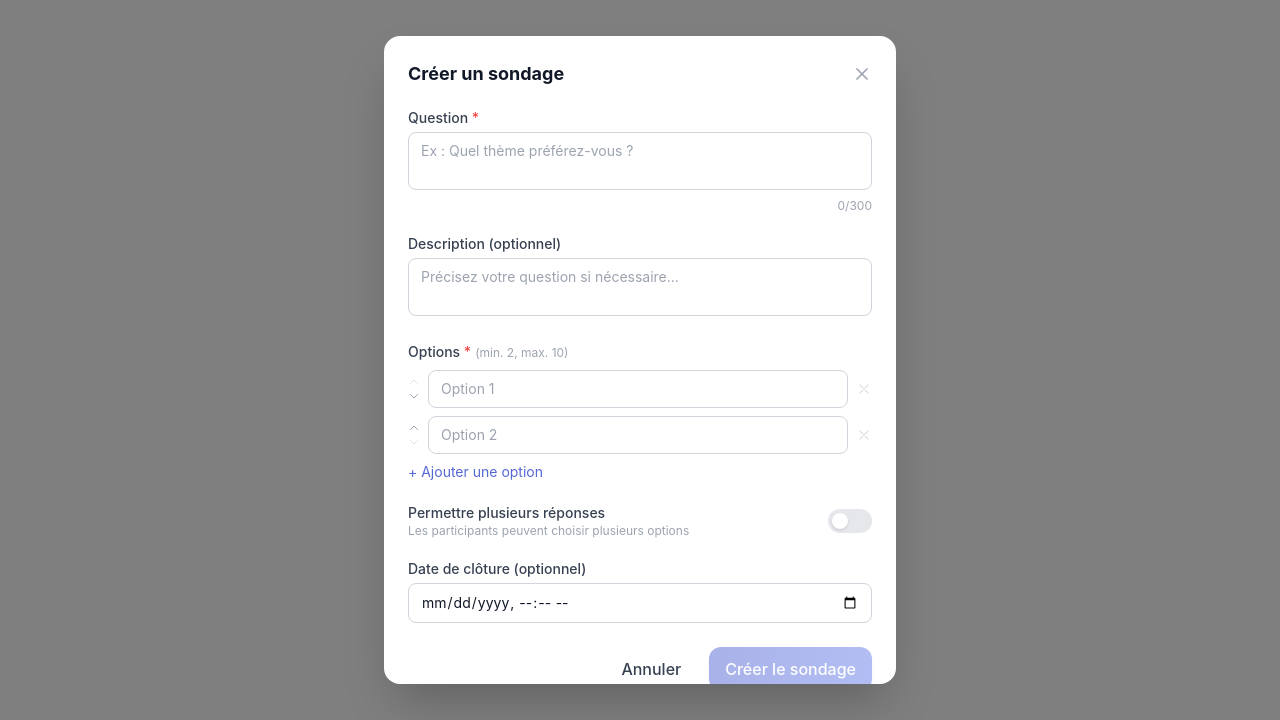
CreatePollModal › shows an error message when creation fails
In the text box labelled "Question *": point(640, 161) [408,132,872,190], type "Quel plat ?"
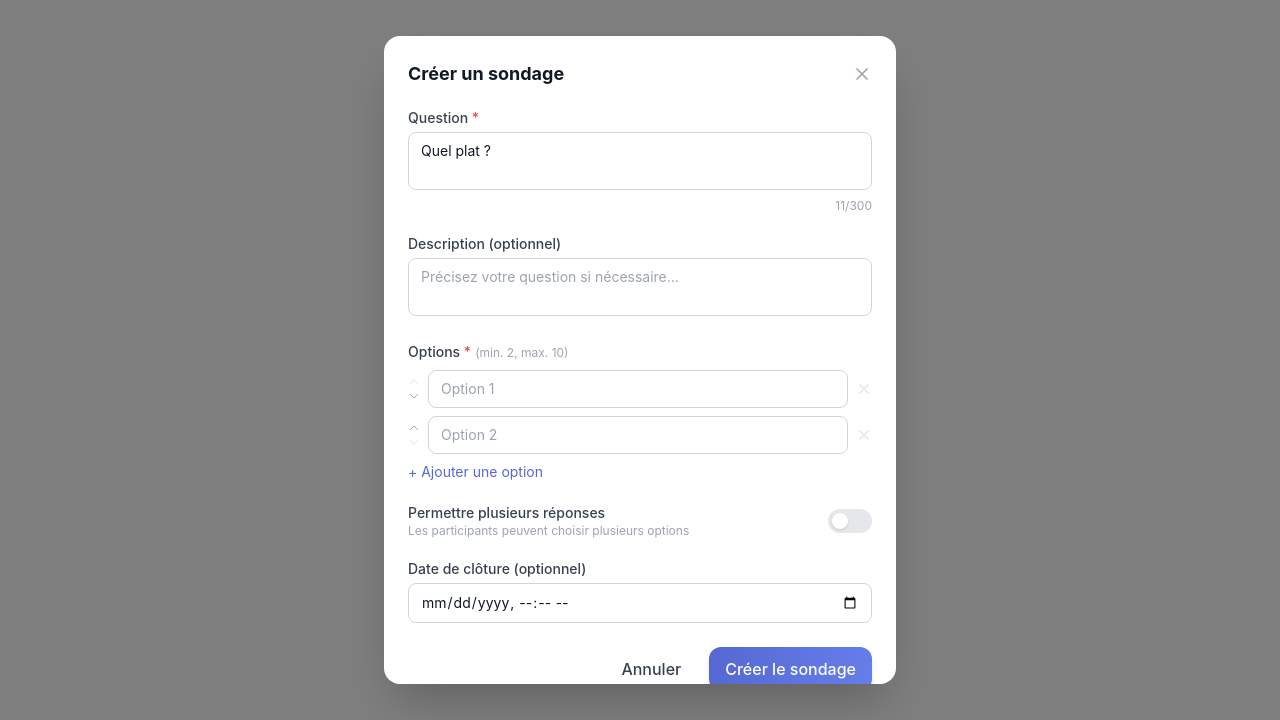
In the field with placeholder "Option 1": point(638, 389) [428,370,848,408], type "Pizza"
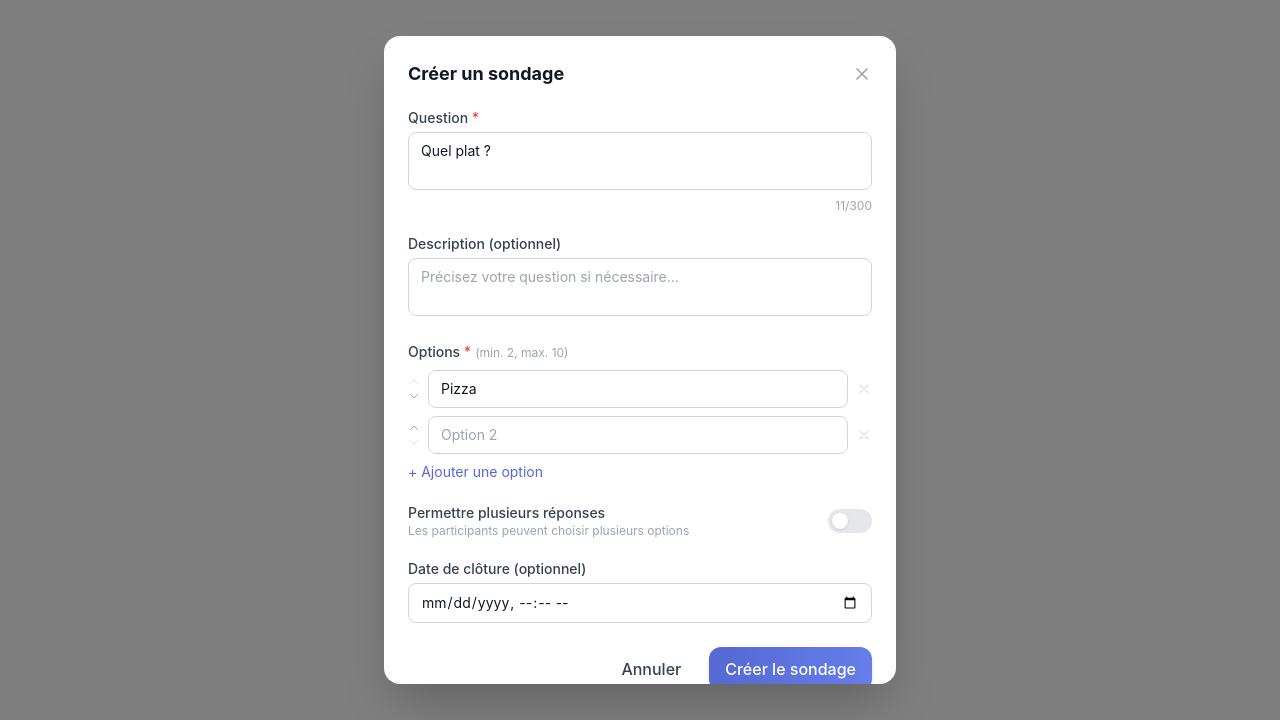
In the field with placeholder "Option 2": point(638, 435) [428,416,848,454], type "Sushi"
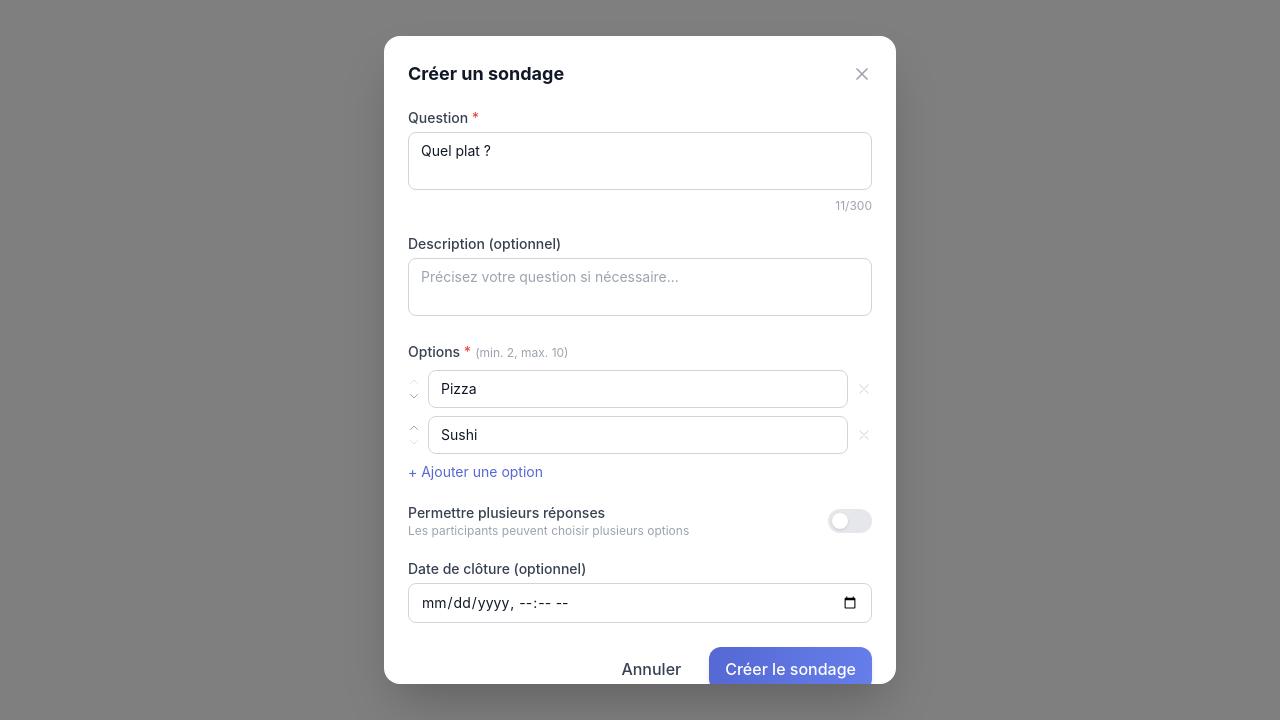
Click the button "Créer le sondage": point(791, 669) [709,647,872,691]
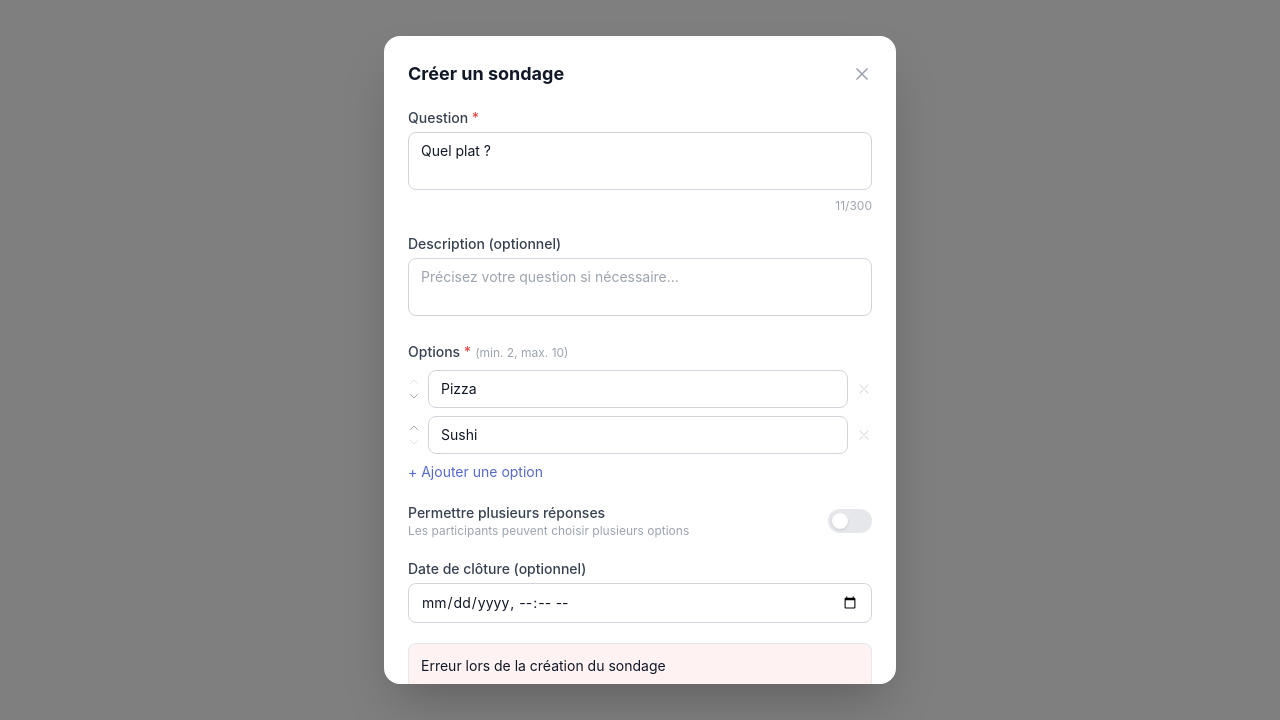
expect the text "Erreur lors de la création du sondage" is shown: met, box [408,643,872,684]
